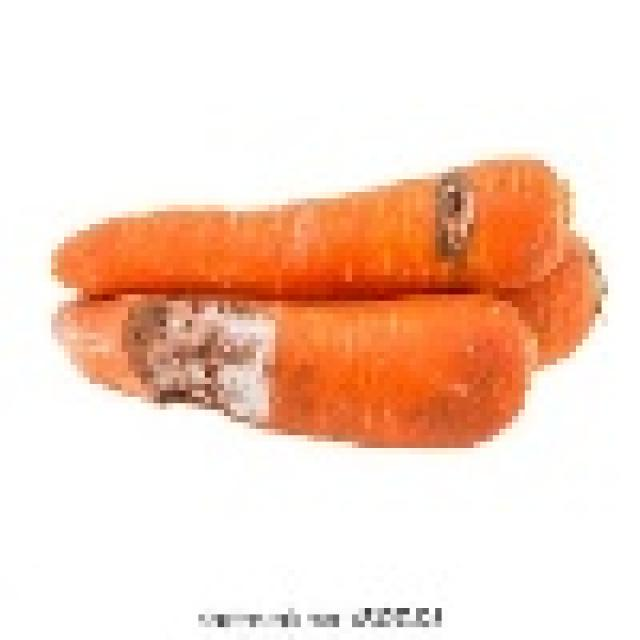Stale_Carrot: (51, 286, 543, 437), (54, 156, 562, 290)
